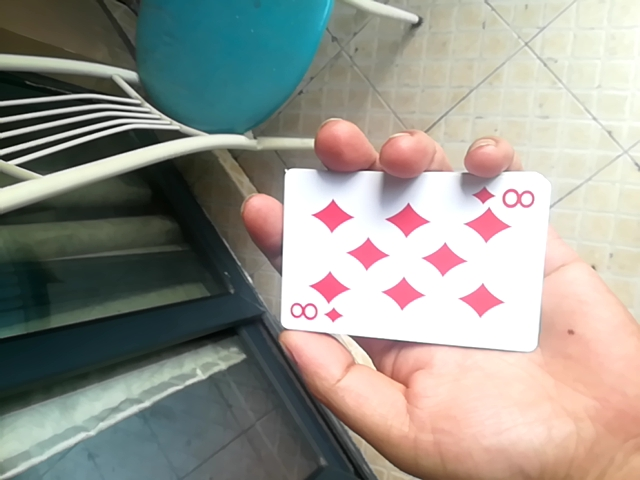fk 8: (275, 169, 552, 346)
